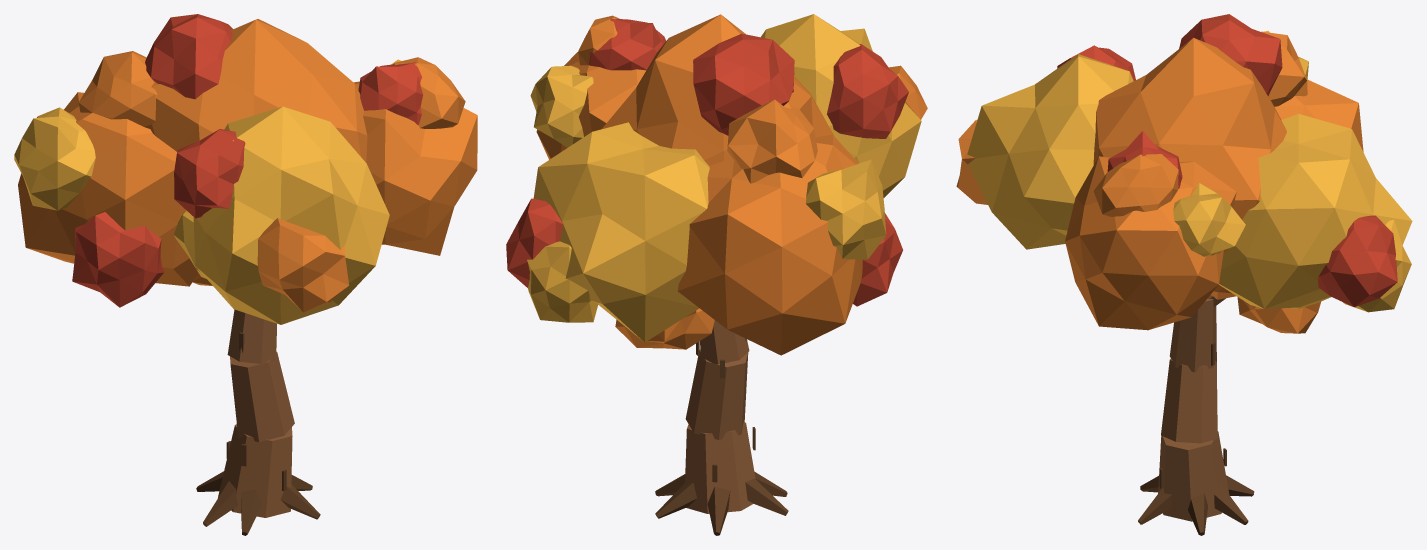
The model's file is arbol_otono.glb.
The picture shows the model from 3 angles, left to right: view 1: azimuth 30°, elevation 25°; view 2: azimuth 150°, elevation 25°; view 3: azimuth 270°, elevation 25°; orthographic projection. The views are drawn at different scales.
Visible parts, largest first — view 1: arbol_otono_otono_naranja, arbol_otono_otono_amarillo, arbol_otono_otono_rojo, arbol_otono_tronco, arbol_otono_tronco_osc; view 2: arbol_otono_otono_naranja, arbol_otono_otono_amarillo, arbol_otono_otono_rojo, arbol_otono_tronco, arbol_otono_tronco_osc; view 3: arbol_otono_otono_naranja, arbol_otono_otono_amarillo, arbol_otono_tronco, arbol_otono_otono_rojo, arbol_otono_tronco_osc.
Boxes of the visible parts, x1,y1,x2,y2 form: arbol_otono_otono_naranja: (18,19,477,312); arbol_otono_otono_amarillo: (14,59,401,324); arbol_otono_otono_rojo: (72,14,423,307); arbol_otono_tronco: (218,309,294,517); arbol_otono_tronco_osc: (196,332,320,535); arbol_otono_otono_naranja: (536,14,927,355); arbol_otono_otono_amarillo: (527,14,921,342); arbol_otono_otono_rojo: (506,18,908,306); arbol_otono_tronco: (685,320,755,513); arbol_otono_tronco_osc: (655,338,788,535); arbol_otono_otono_naranja: (956,31,1363,333); arbol_otono_otono_amarillo: (967,30,1412,312); arbol_otono_tronco: (1158,295,1229,521); arbol_otono_otono_rojo: (1057,14,1397,307); arbol_otono_tronco_osc: (1138,342,1254,535).
Size of the model in its own units: 10.95 by 13.32 by 11.68.
